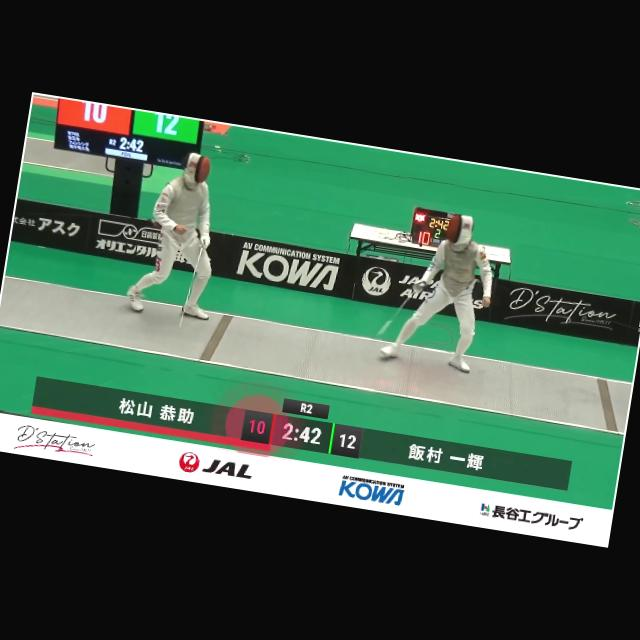blade: (367, 272, 430, 348), (174, 236, 214, 336)
